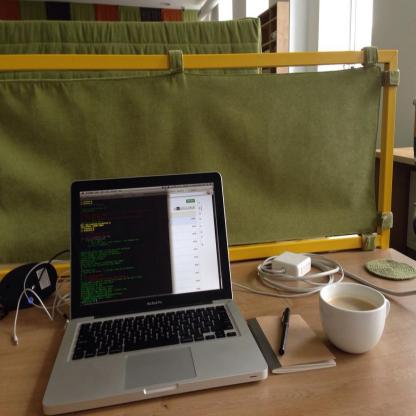board: (40, 170, 268, 416)
